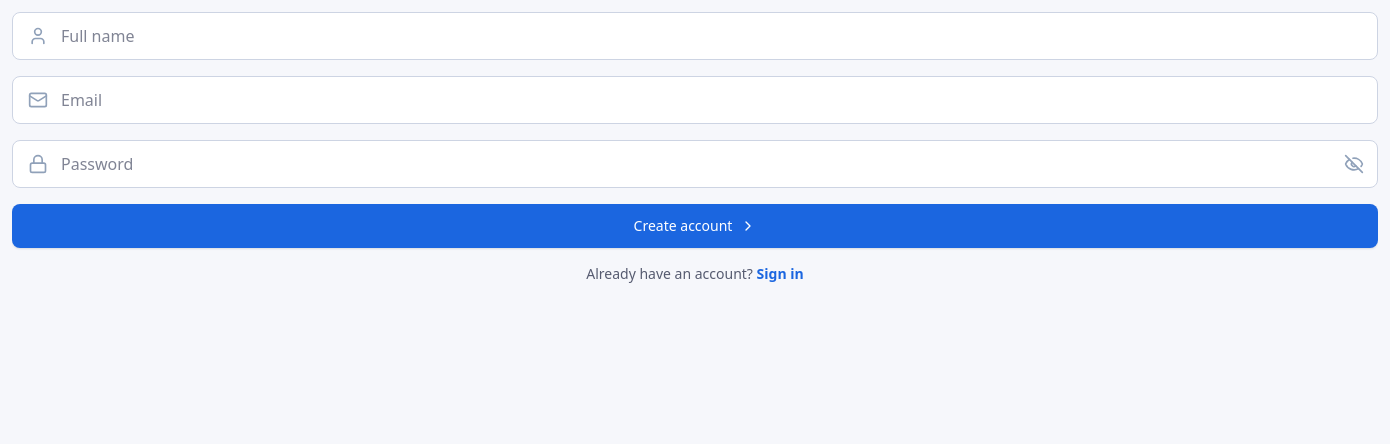
Test: resend confirmation email › says to wait a minute when the new email cannot be sent yet, without showing the raw error
Type "Pat Lee" into the field with placeholder "Full name" at (695, 36), box [12,12,1378,60]
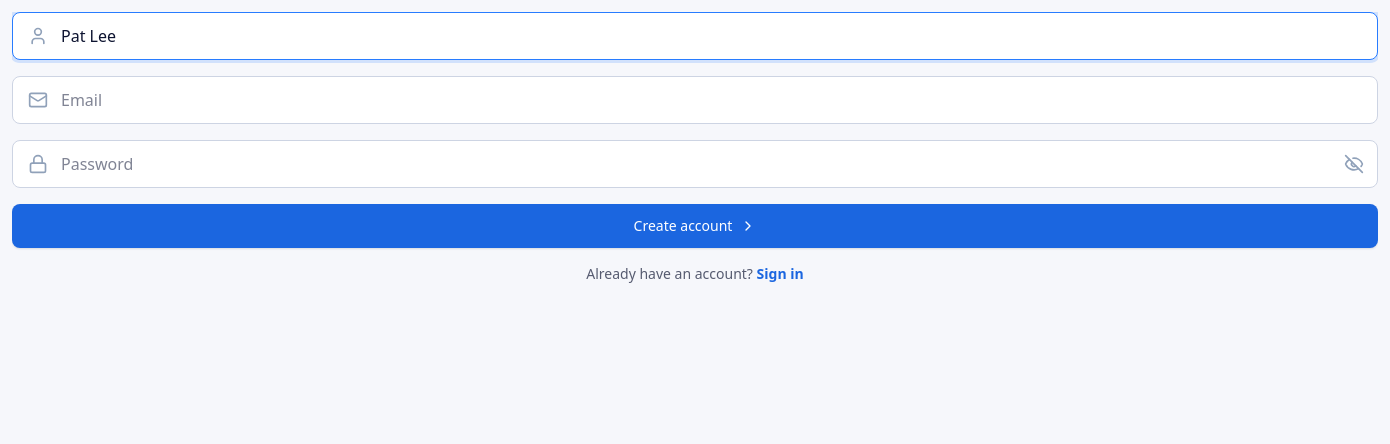
Type "pat@pizza.test" into the field with placeholder "Email" at (695, 100), box [12,76,1378,124]
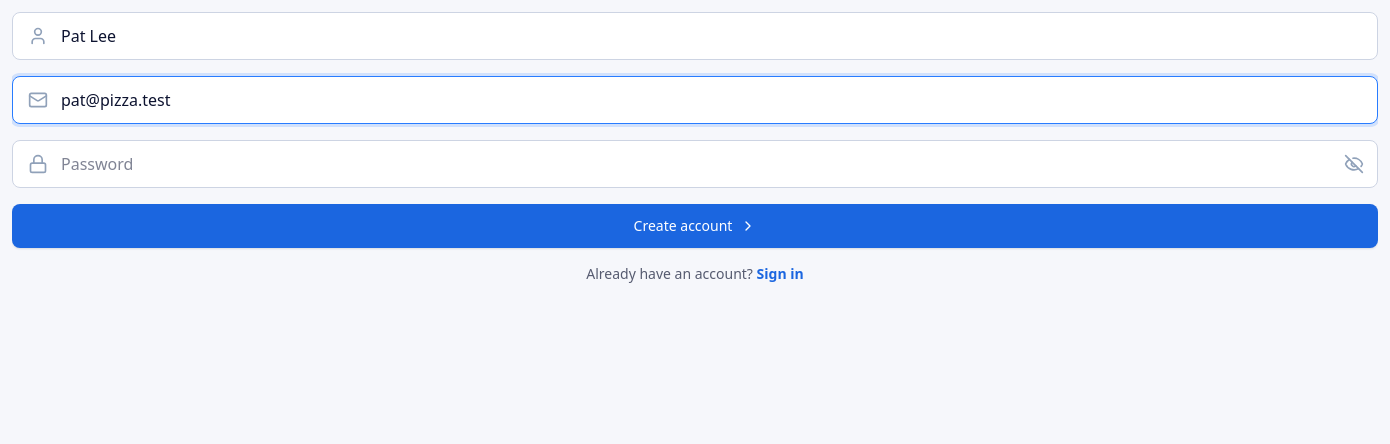
Type "correct-horse-battery" into the password field with placeholder "Password" at (695, 164), box [12,140,1378,188]
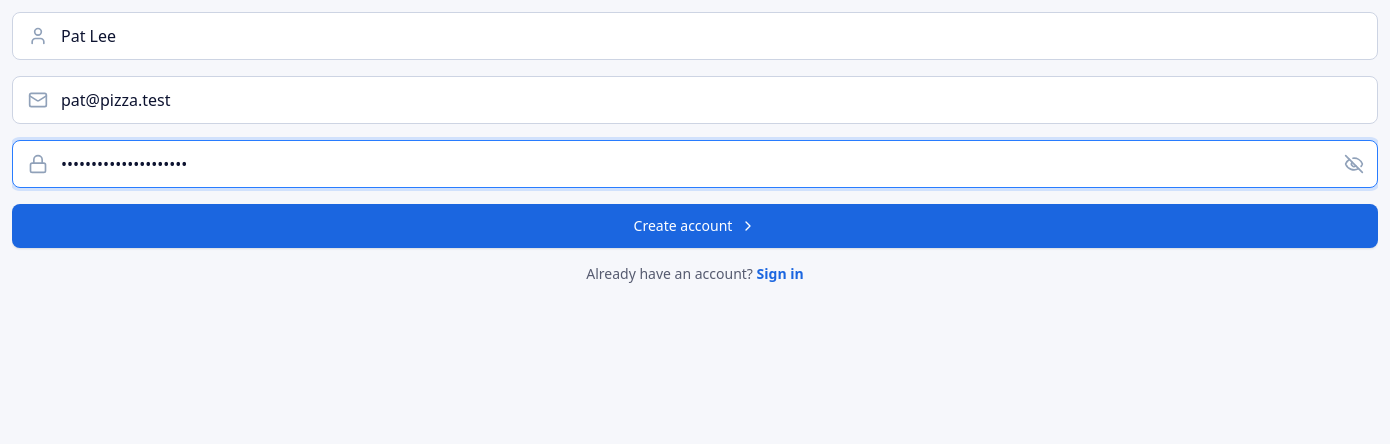
Click the button "Create account" at (695, 226), box [12,204,1378,248]
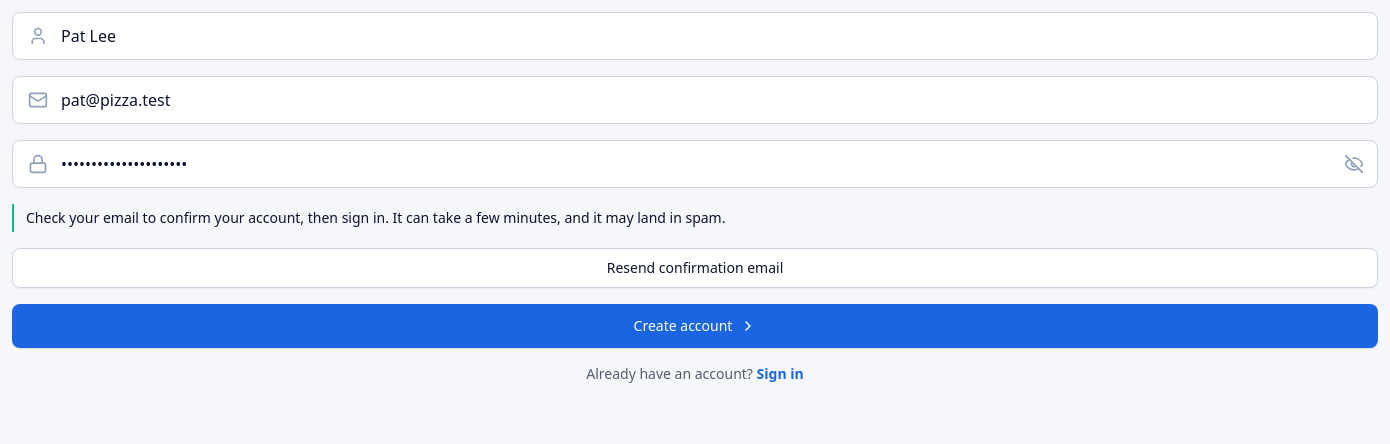
Click the button "Resend confirmation email" at (695, 268), box [12,248,1378,288]
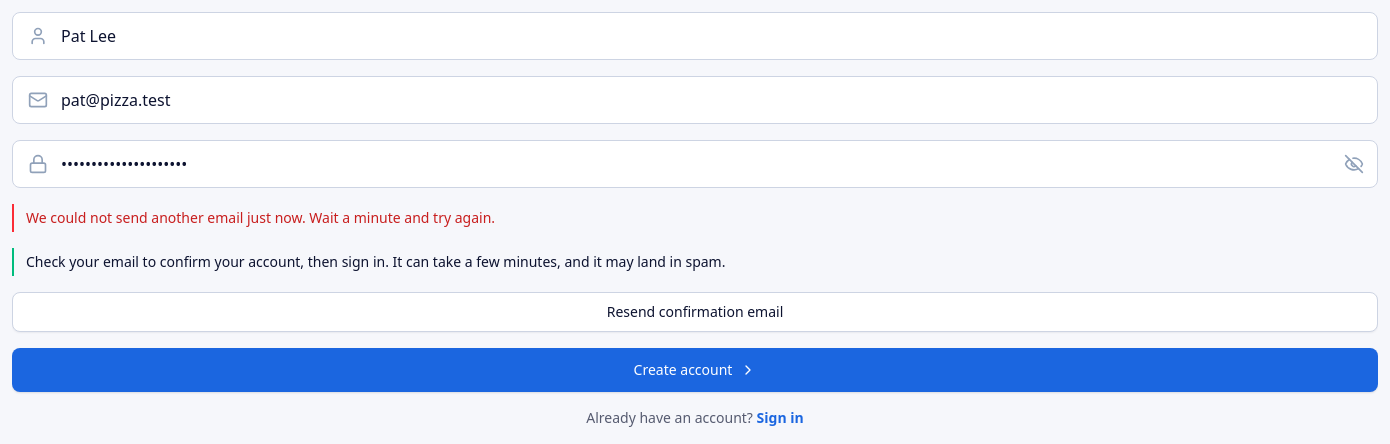
expect the message "We could not send another email just now. Wait a minute and try again." is shown: met, box [12,204,1378,232]
